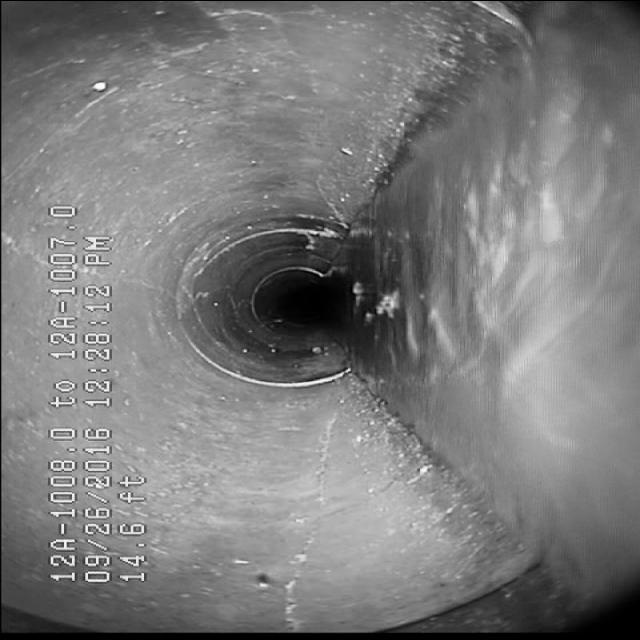Crack: (250, 403, 378, 622)
